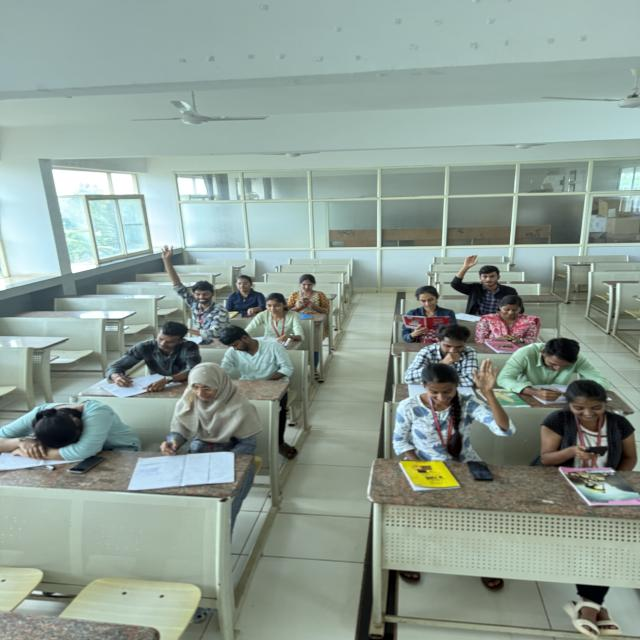Hand Rising: (398, 356, 504, 458), (156, 241, 232, 327), (447, 251, 527, 306)
Reading: (149, 357, 260, 467), (494, 338, 615, 394), (398, 325, 488, 387), (397, 283, 462, 339), (241, 291, 304, 341)
Sleeping: (0, 393, 145, 472)
Using Phone: (534, 379, 640, 471), (475, 294, 548, 349), (285, 273, 333, 313)
Writing: (99, 319, 203, 384)
